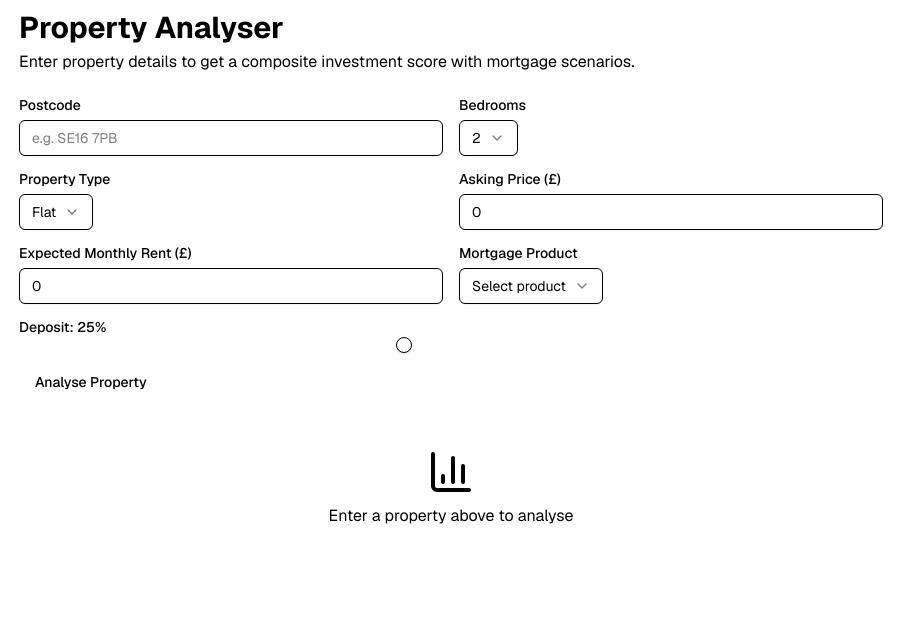
Test case: Analyse page › shows validation error on empty postcode submit
Click the button "Analyse Property": click(91, 382) [19,364,163,400]
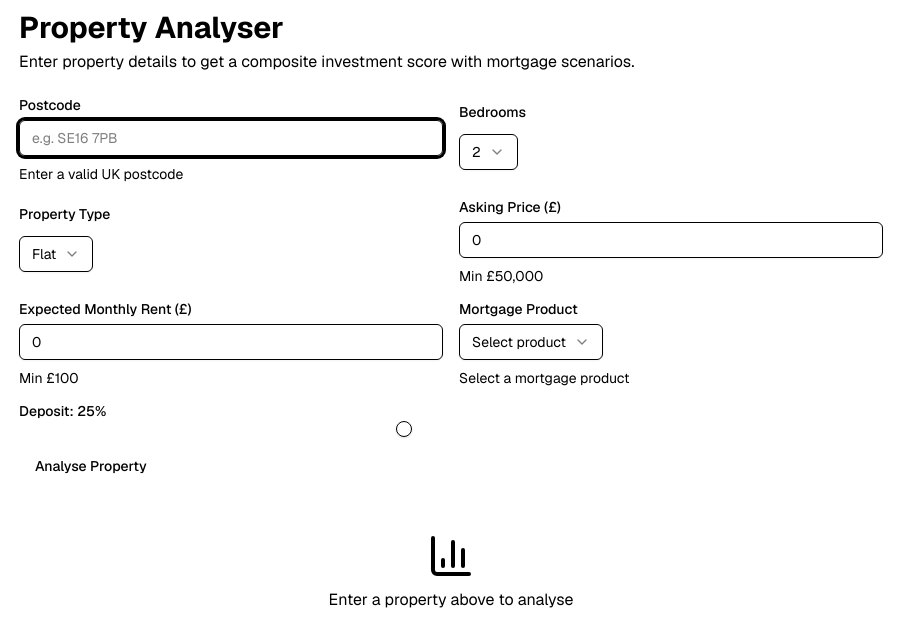
Expected: the text "Enter a valid UK postcode" is shown, [19,165,183,183]
